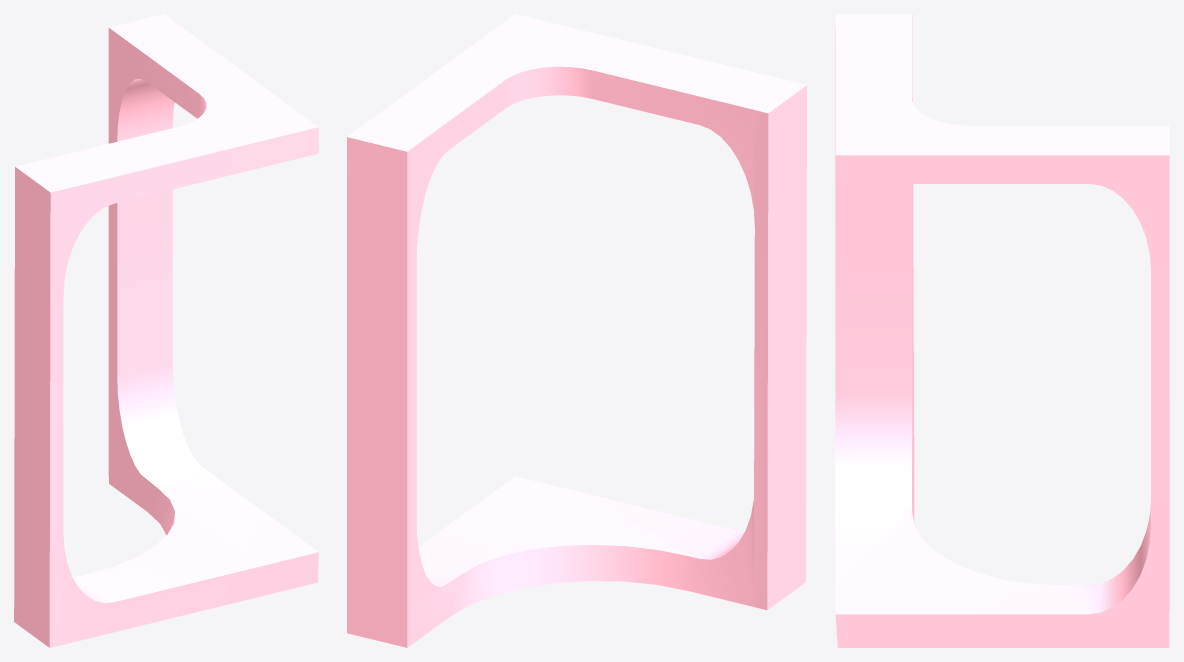
Rendered from booth1.glb.
The picture shows the model from 3 angles, left to right: view 1: azimuth 30°, elevation 25°; view 2: azimuth 150°, elevation 25°; view 3: azimuth 270°, elevation 25°; orthographic projection. The views are drawn at different scales.
Visible parts, largest first — view 1: modelo3; view 2: modelo3; view 3: modelo3.
Boxes of the visible parts, x1,y1,x2,y2 form: modelo3: (14, 14, 318, 647); modelo3: (347, 14, 806, 647); modelo3: (835, 14, 1169, 647).
Size of what is drawn, in the model's own units: 4 by 6.5 by 4.
